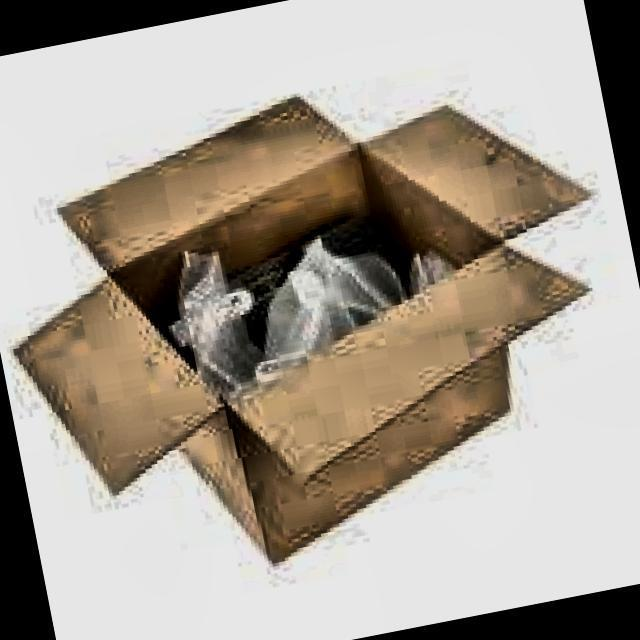cardboard: (0, 39, 640, 608)
